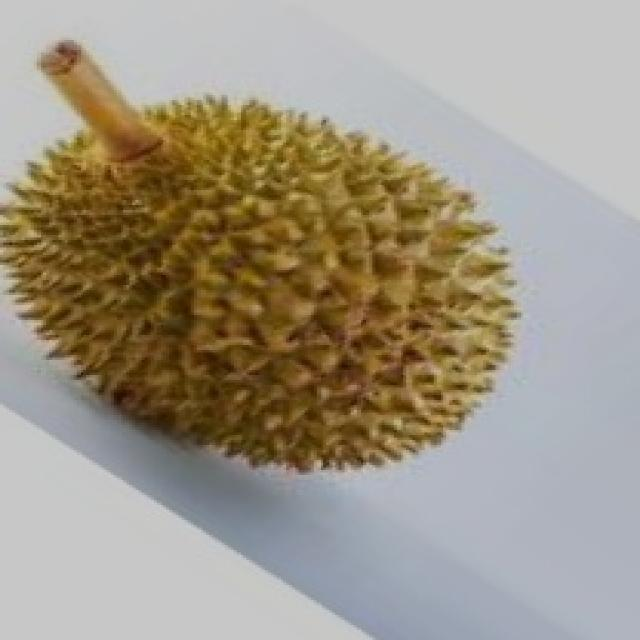fruit: (0, 98, 363, 548)
